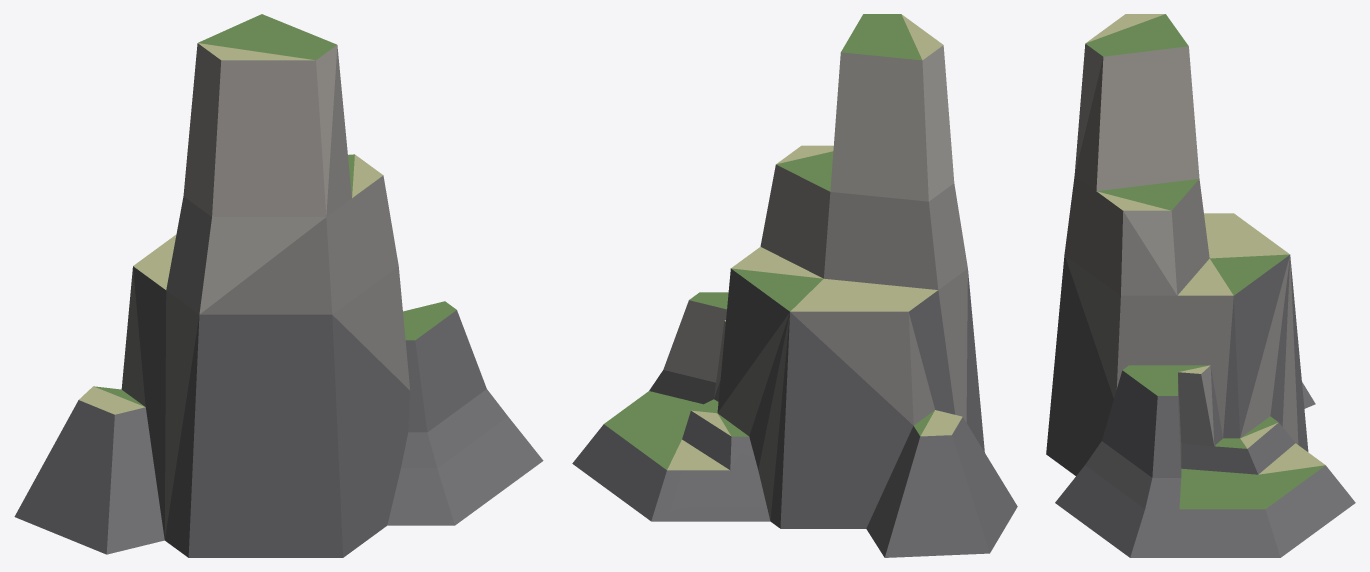
File: rock_tallA.glb
The picture shows the model from 3 angles, left to right: view 1: azimuth 30°, elevation 25°; view 2: azimuth 150°, elevation 25°; view 3: azimuth 270°, elevation 25°; orthographic projection. The views are drawn at different scales.
Visible parts, largest first — view 1: rock_tallA; view 2: rock_tallA; view 3: rock_tallA.
Part boxes in pixels (<box>): rock_tallA: <box>14,14,543,557</box>; rock_tallA: <box>572,14,1017,557</box>; rock_tallA: <box>1046,14,1355,557</box>.
Size of the model in its own units: 0.9831 by 0.9959 by 0.6832.
